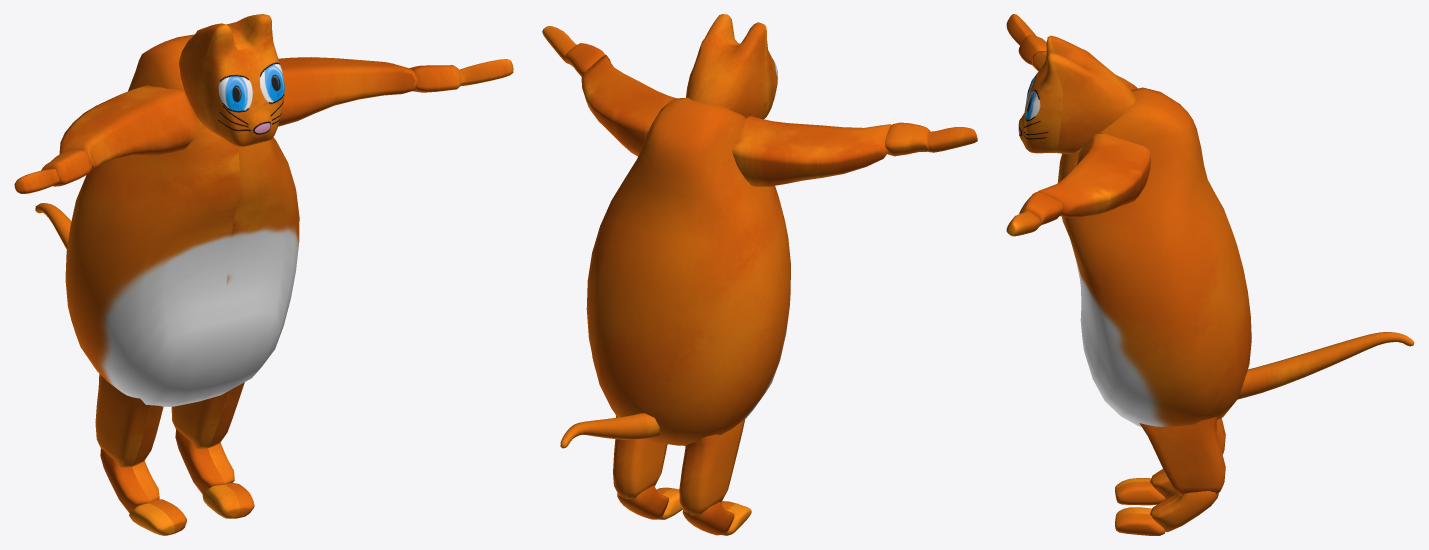
File: SecondCatModel.obj
3 renders of one model, left to right at view 1: azimuth 30°, elevation 25°; view 2: azimuth 150°, elevation 25°; view 3: azimuth 270°, elevation 25°, orthographic. The views are drawn at different scales.
Parts seen in each view (by area): view 1: pCube4, modelPanel3ViewSelectedSet pCube4; view 2: pCube4, modelPanel3ViewSelectedSet pCube4; view 3: pCube4, modelPanel3ViewSelectedSet pCube4.
Part boxes in pixels (box(x1,y1,x2,y2)): pCube4: box(35, 14, 299, 535); modelPanel3ViewSelectedSet pCube4: box(14, 57, 513, 193); pCube4: box(560, 14, 790, 535); modelPanel3ViewSelectedSet pCube4: box(542, 26, 977, 186); pCube4: box(1018, 35, 1414, 535); modelPanel3ViewSelectedSet pCube4: box(1006, 14, 1150, 236).
Size of the model in its own units: 3.7 by 3.82 by 2.99.
Materials: 1 (1 with a texture image).
